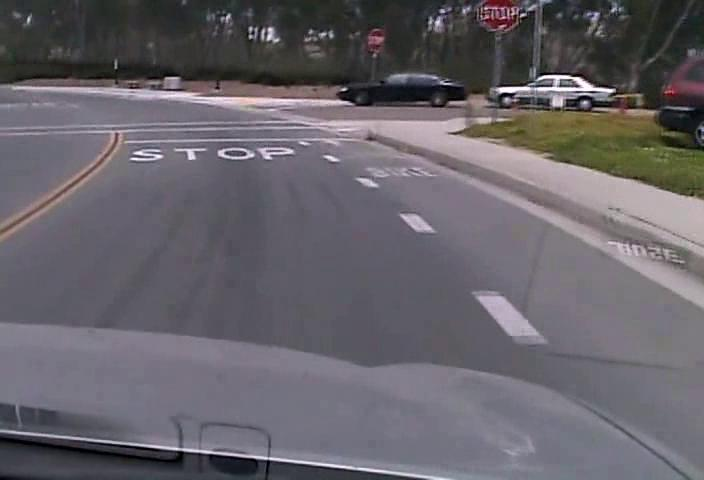stop: (365, 27, 385, 51)
